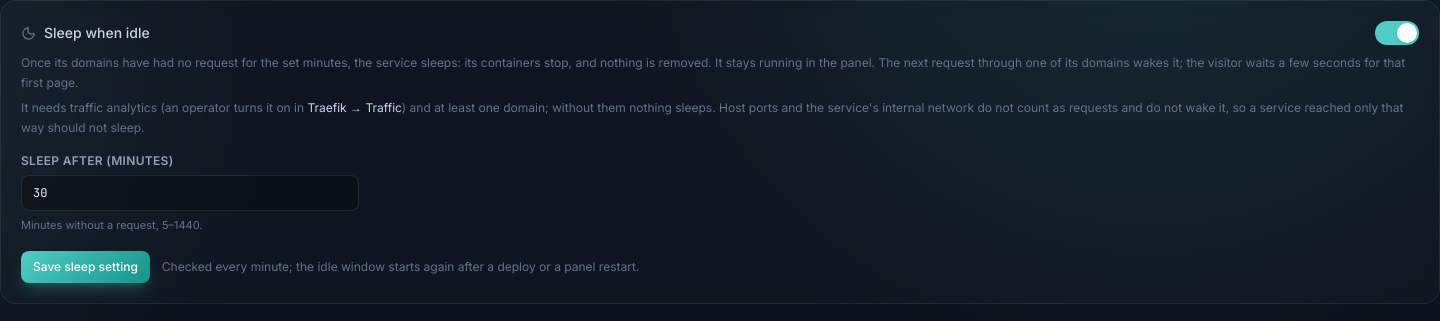
Test case: SleepCard › holds the button while saving
Click the button "Save sleep setting".
click(85, 267)  # box [21, 251, 150, 283]
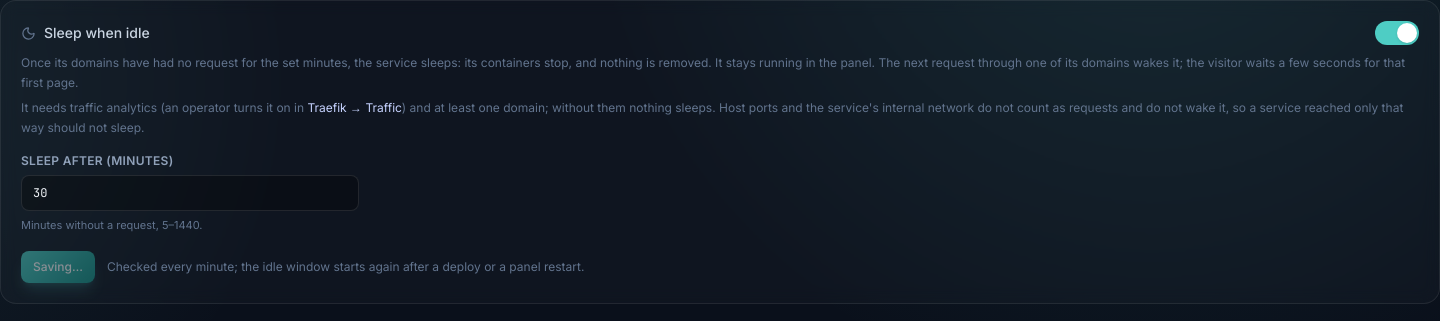
Check: the button "Saving…" is disabled, box [21, 251, 95, 283]
